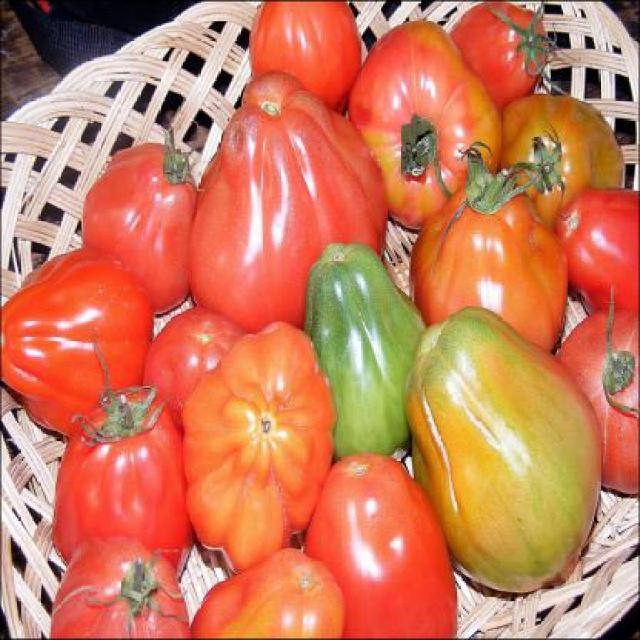Tomato: (0, 0, 638, 638), (309, 452, 460, 634)
